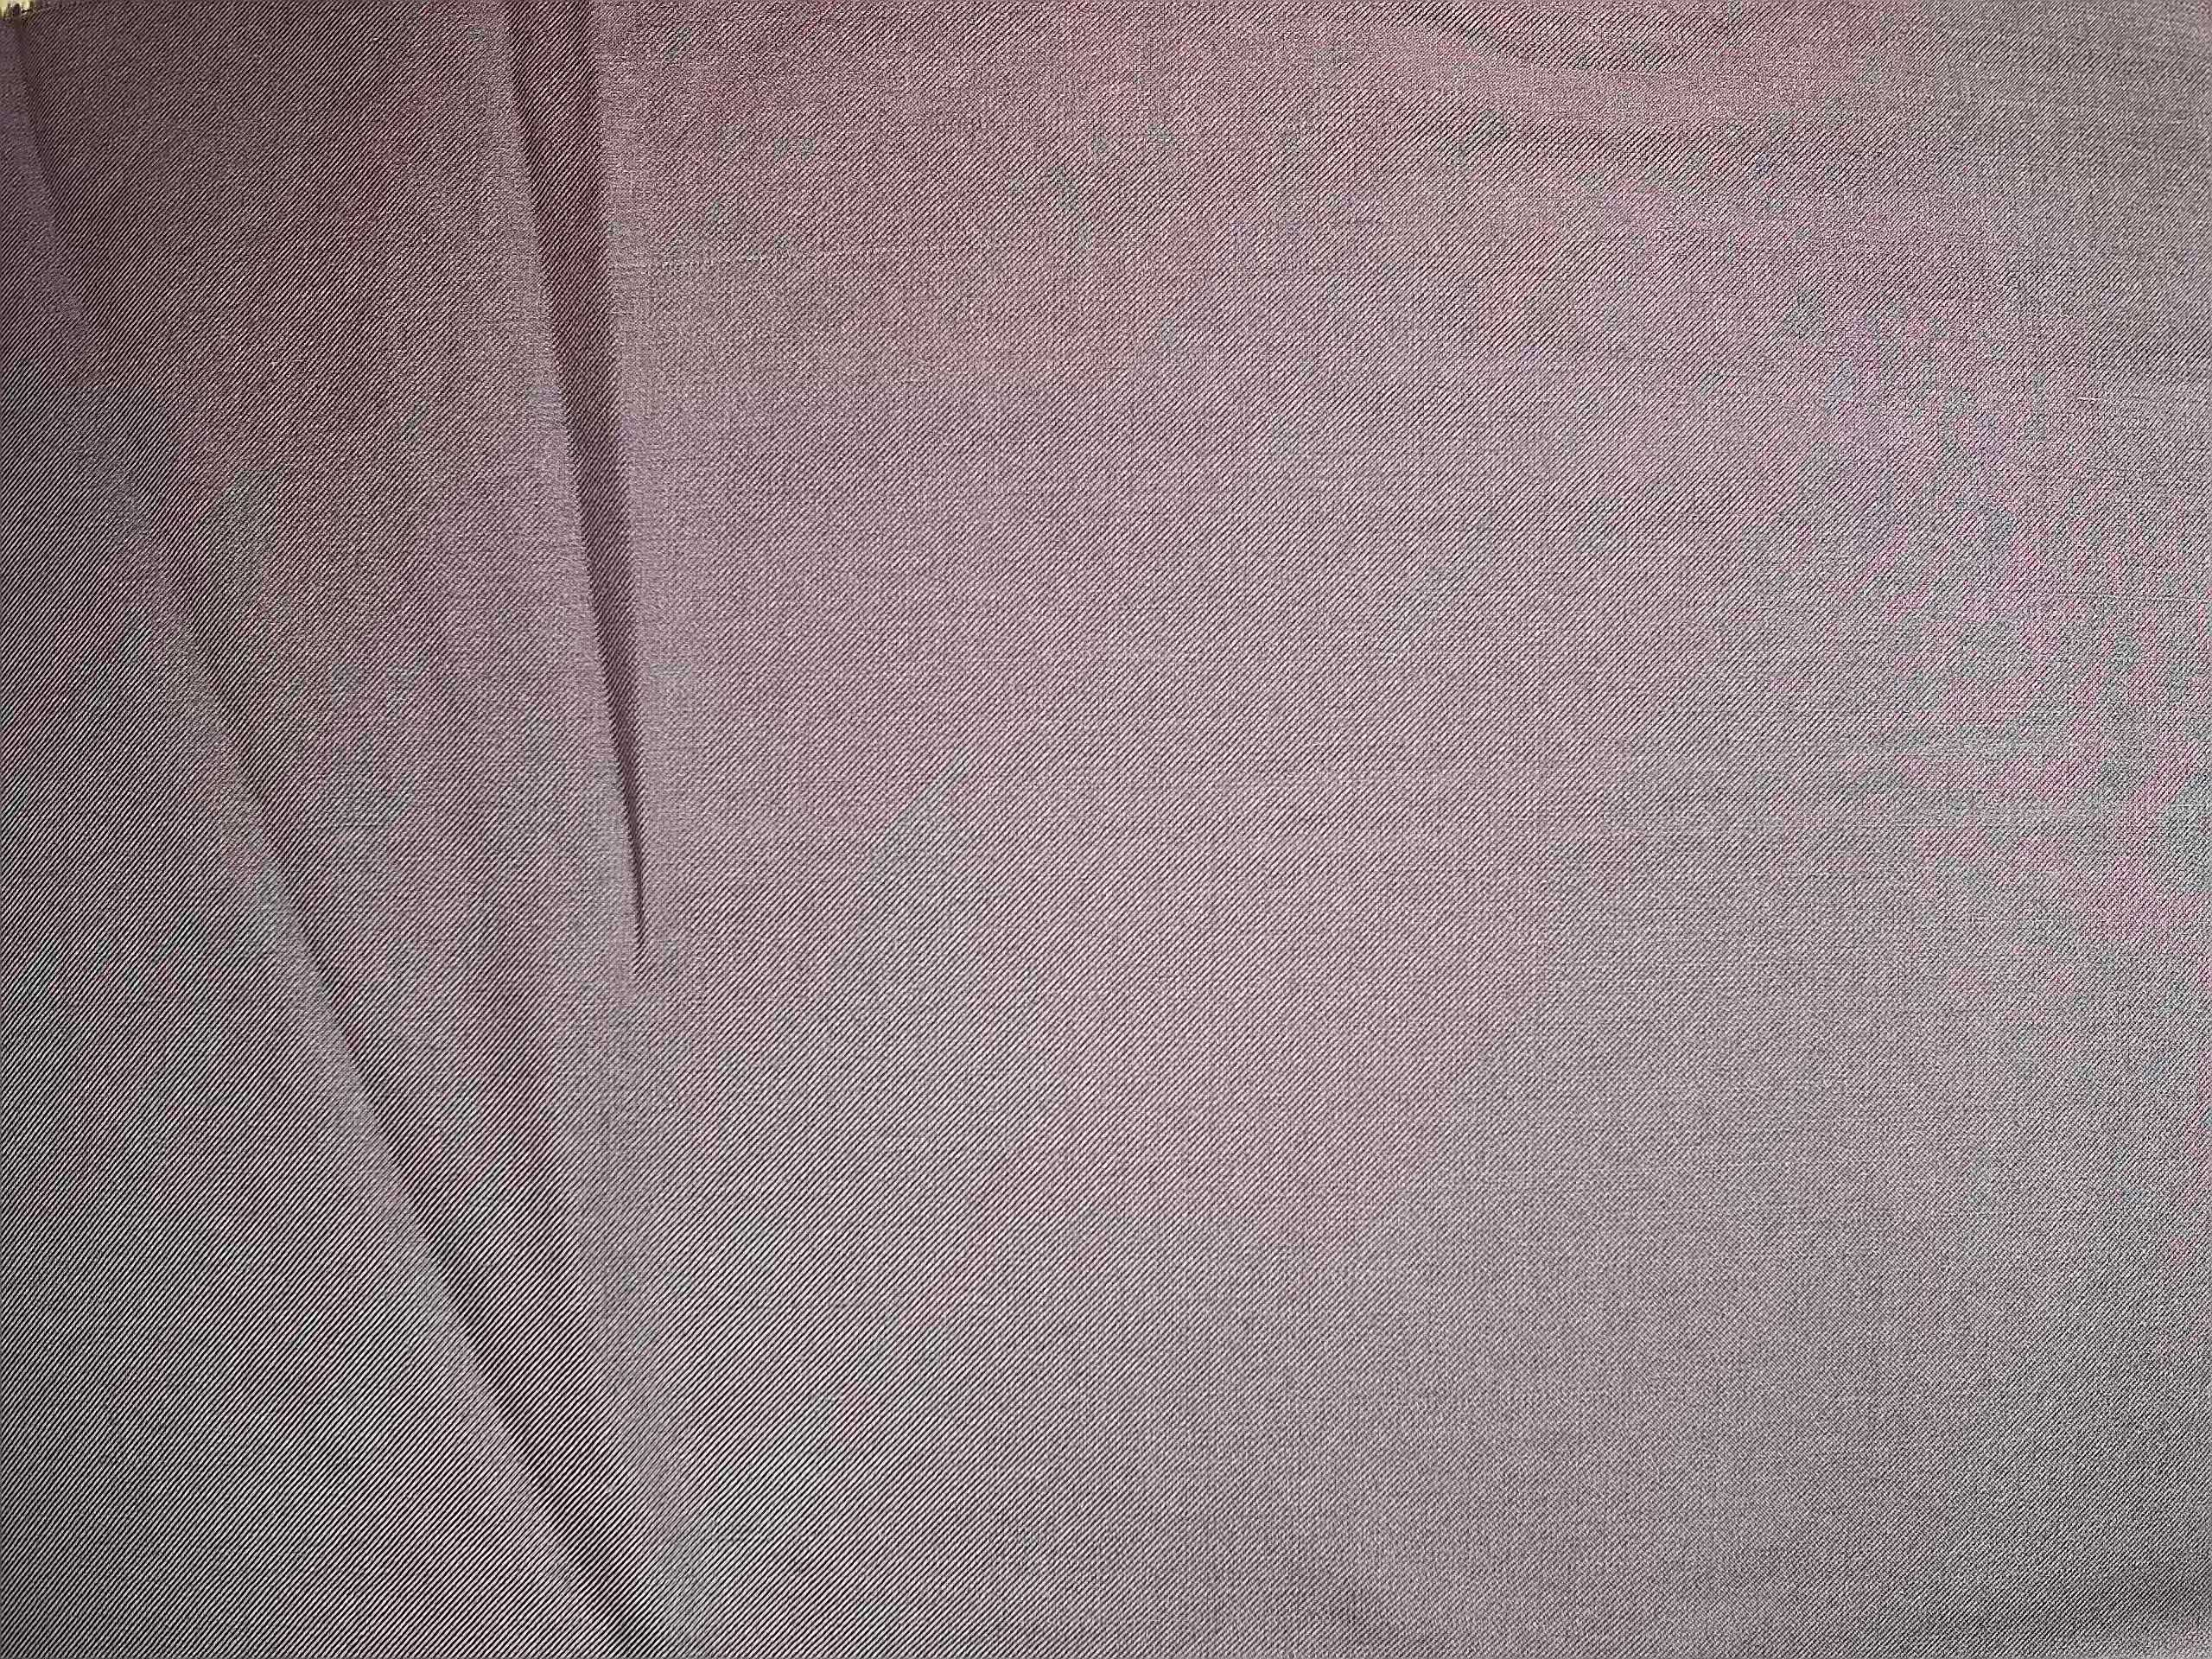others: (611, 239, 1026, 275)
